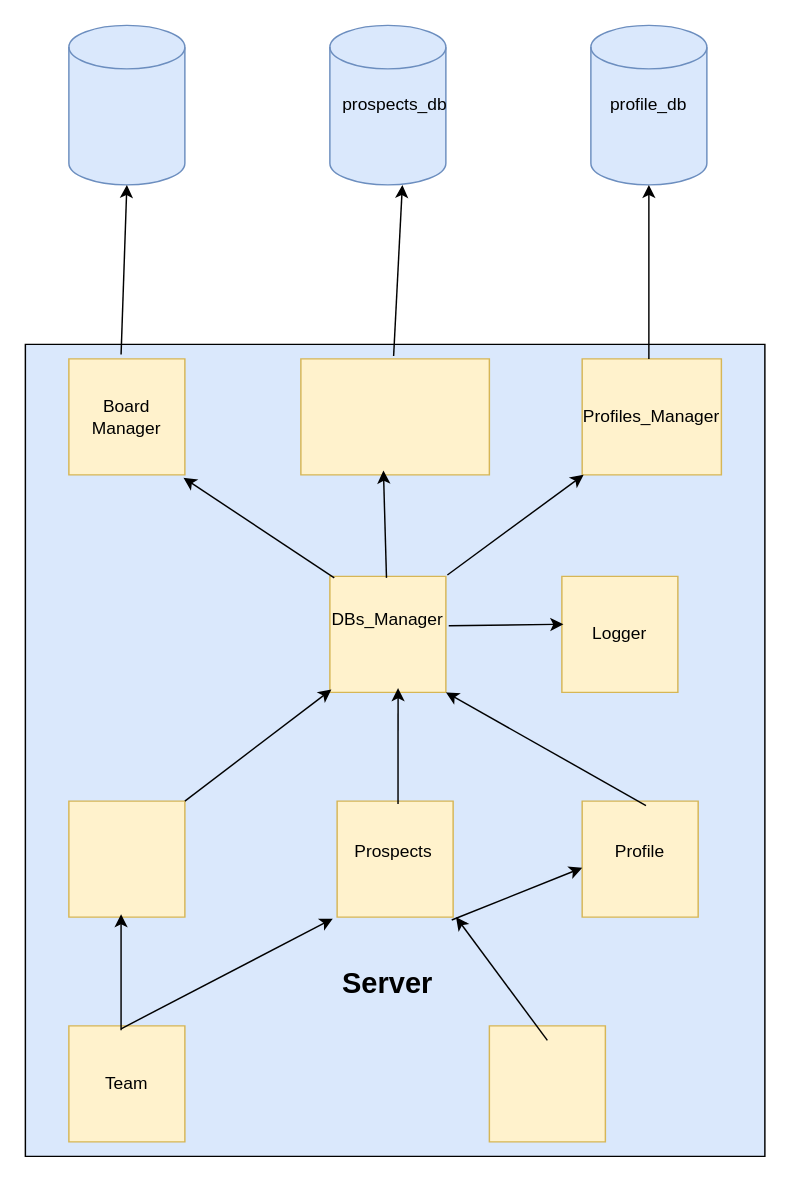
This 790x1182 diagram has some shape labels left out. The centre of each missing label's shape, as x and y in pixels:
"Board" goes at pixel 126 858.
"board_db" goes at pixel 126 104.
"Observer" goes at pixel 546 1083.
"Prospects Manager" goes at pixel 394 416.
